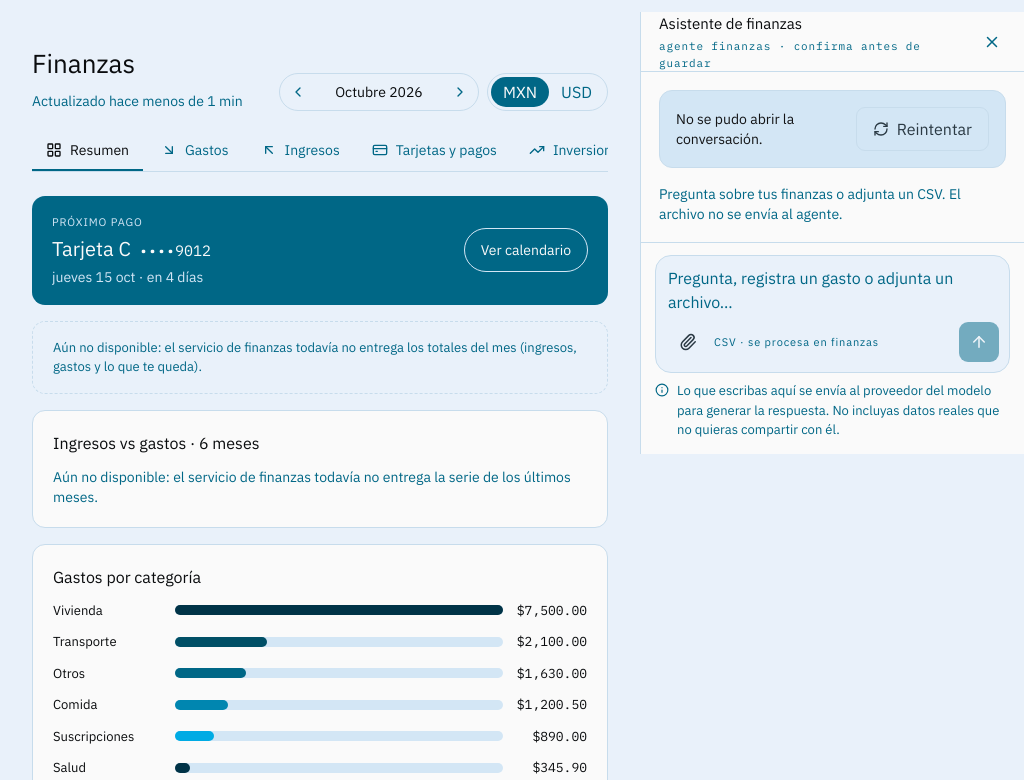
Test: FinanzasPage · carga y resumen › el asistente reintenta abrir la conversación si falla
The width and height of the screenshot is (1024, 780).
Expected: the message reads "No se pudo abrir la conversación.", left=676, top=110, right=794, bottom=148
Step 1. Click the button "Reintentar" → (922, 129), box left=856, top=107, right=989, bottom=151
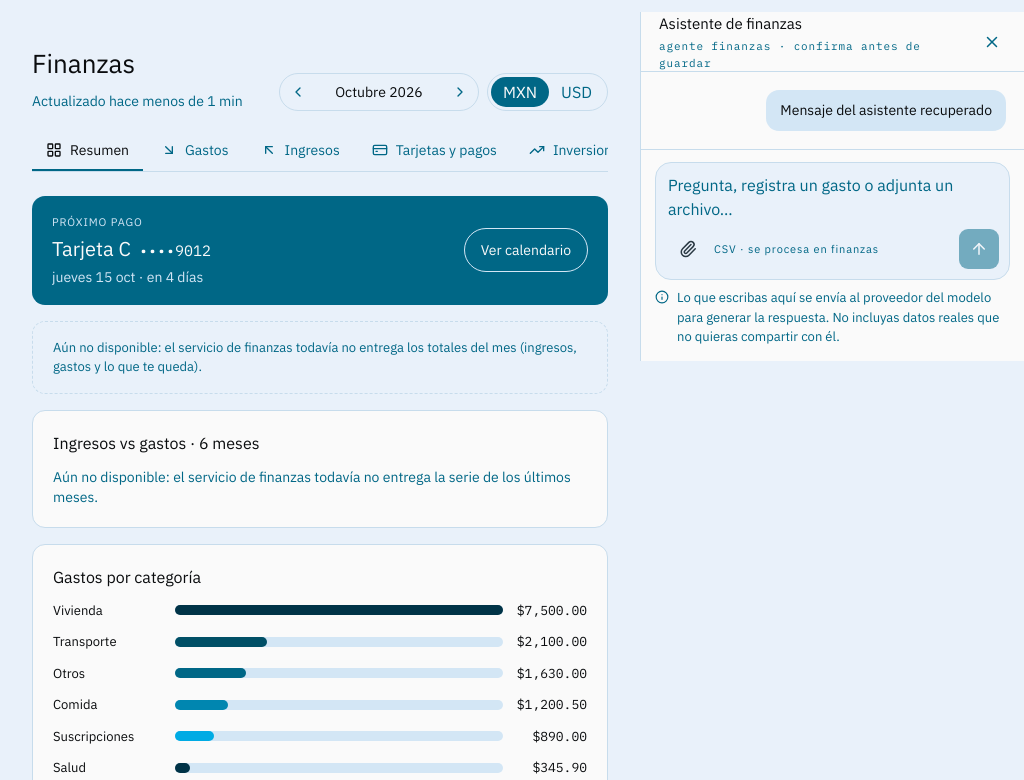
Now the text "Mensaje del asistente recuperado" is shown, box left=766, top=90, right=1006, bottom=131
